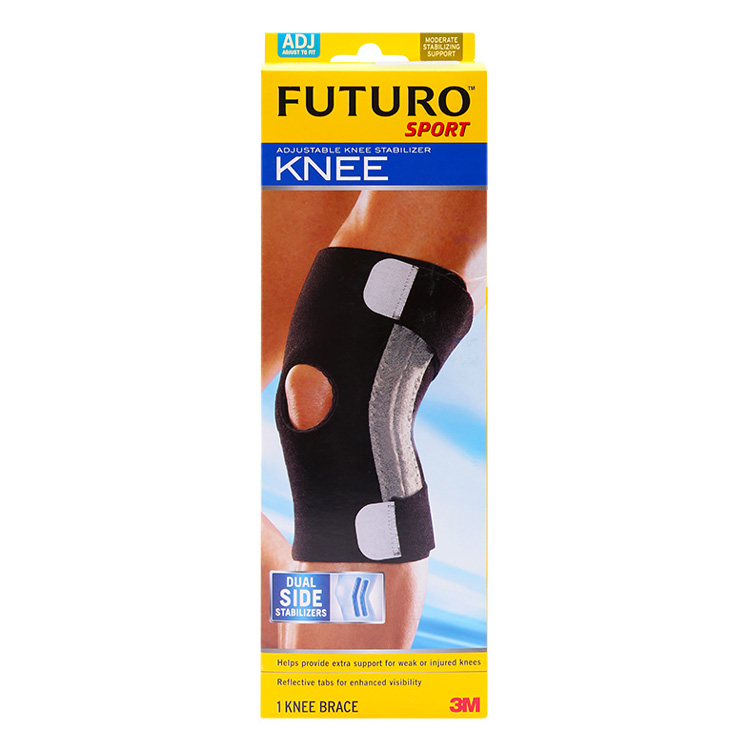3M: (447, 693, 483, 714)
